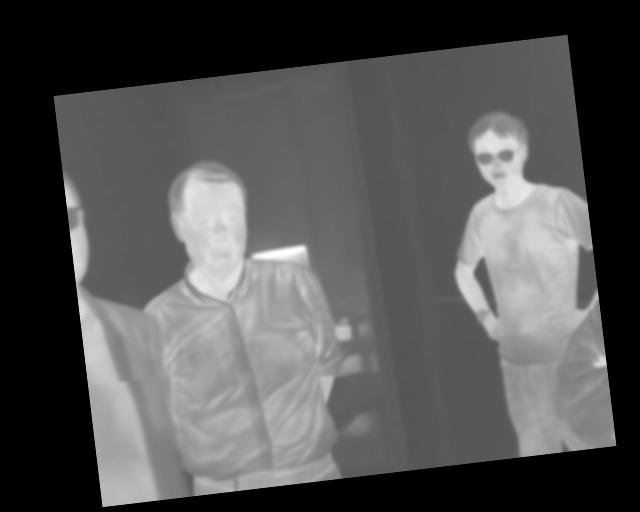face: (162, 155, 253, 276), (465, 106, 535, 192)
